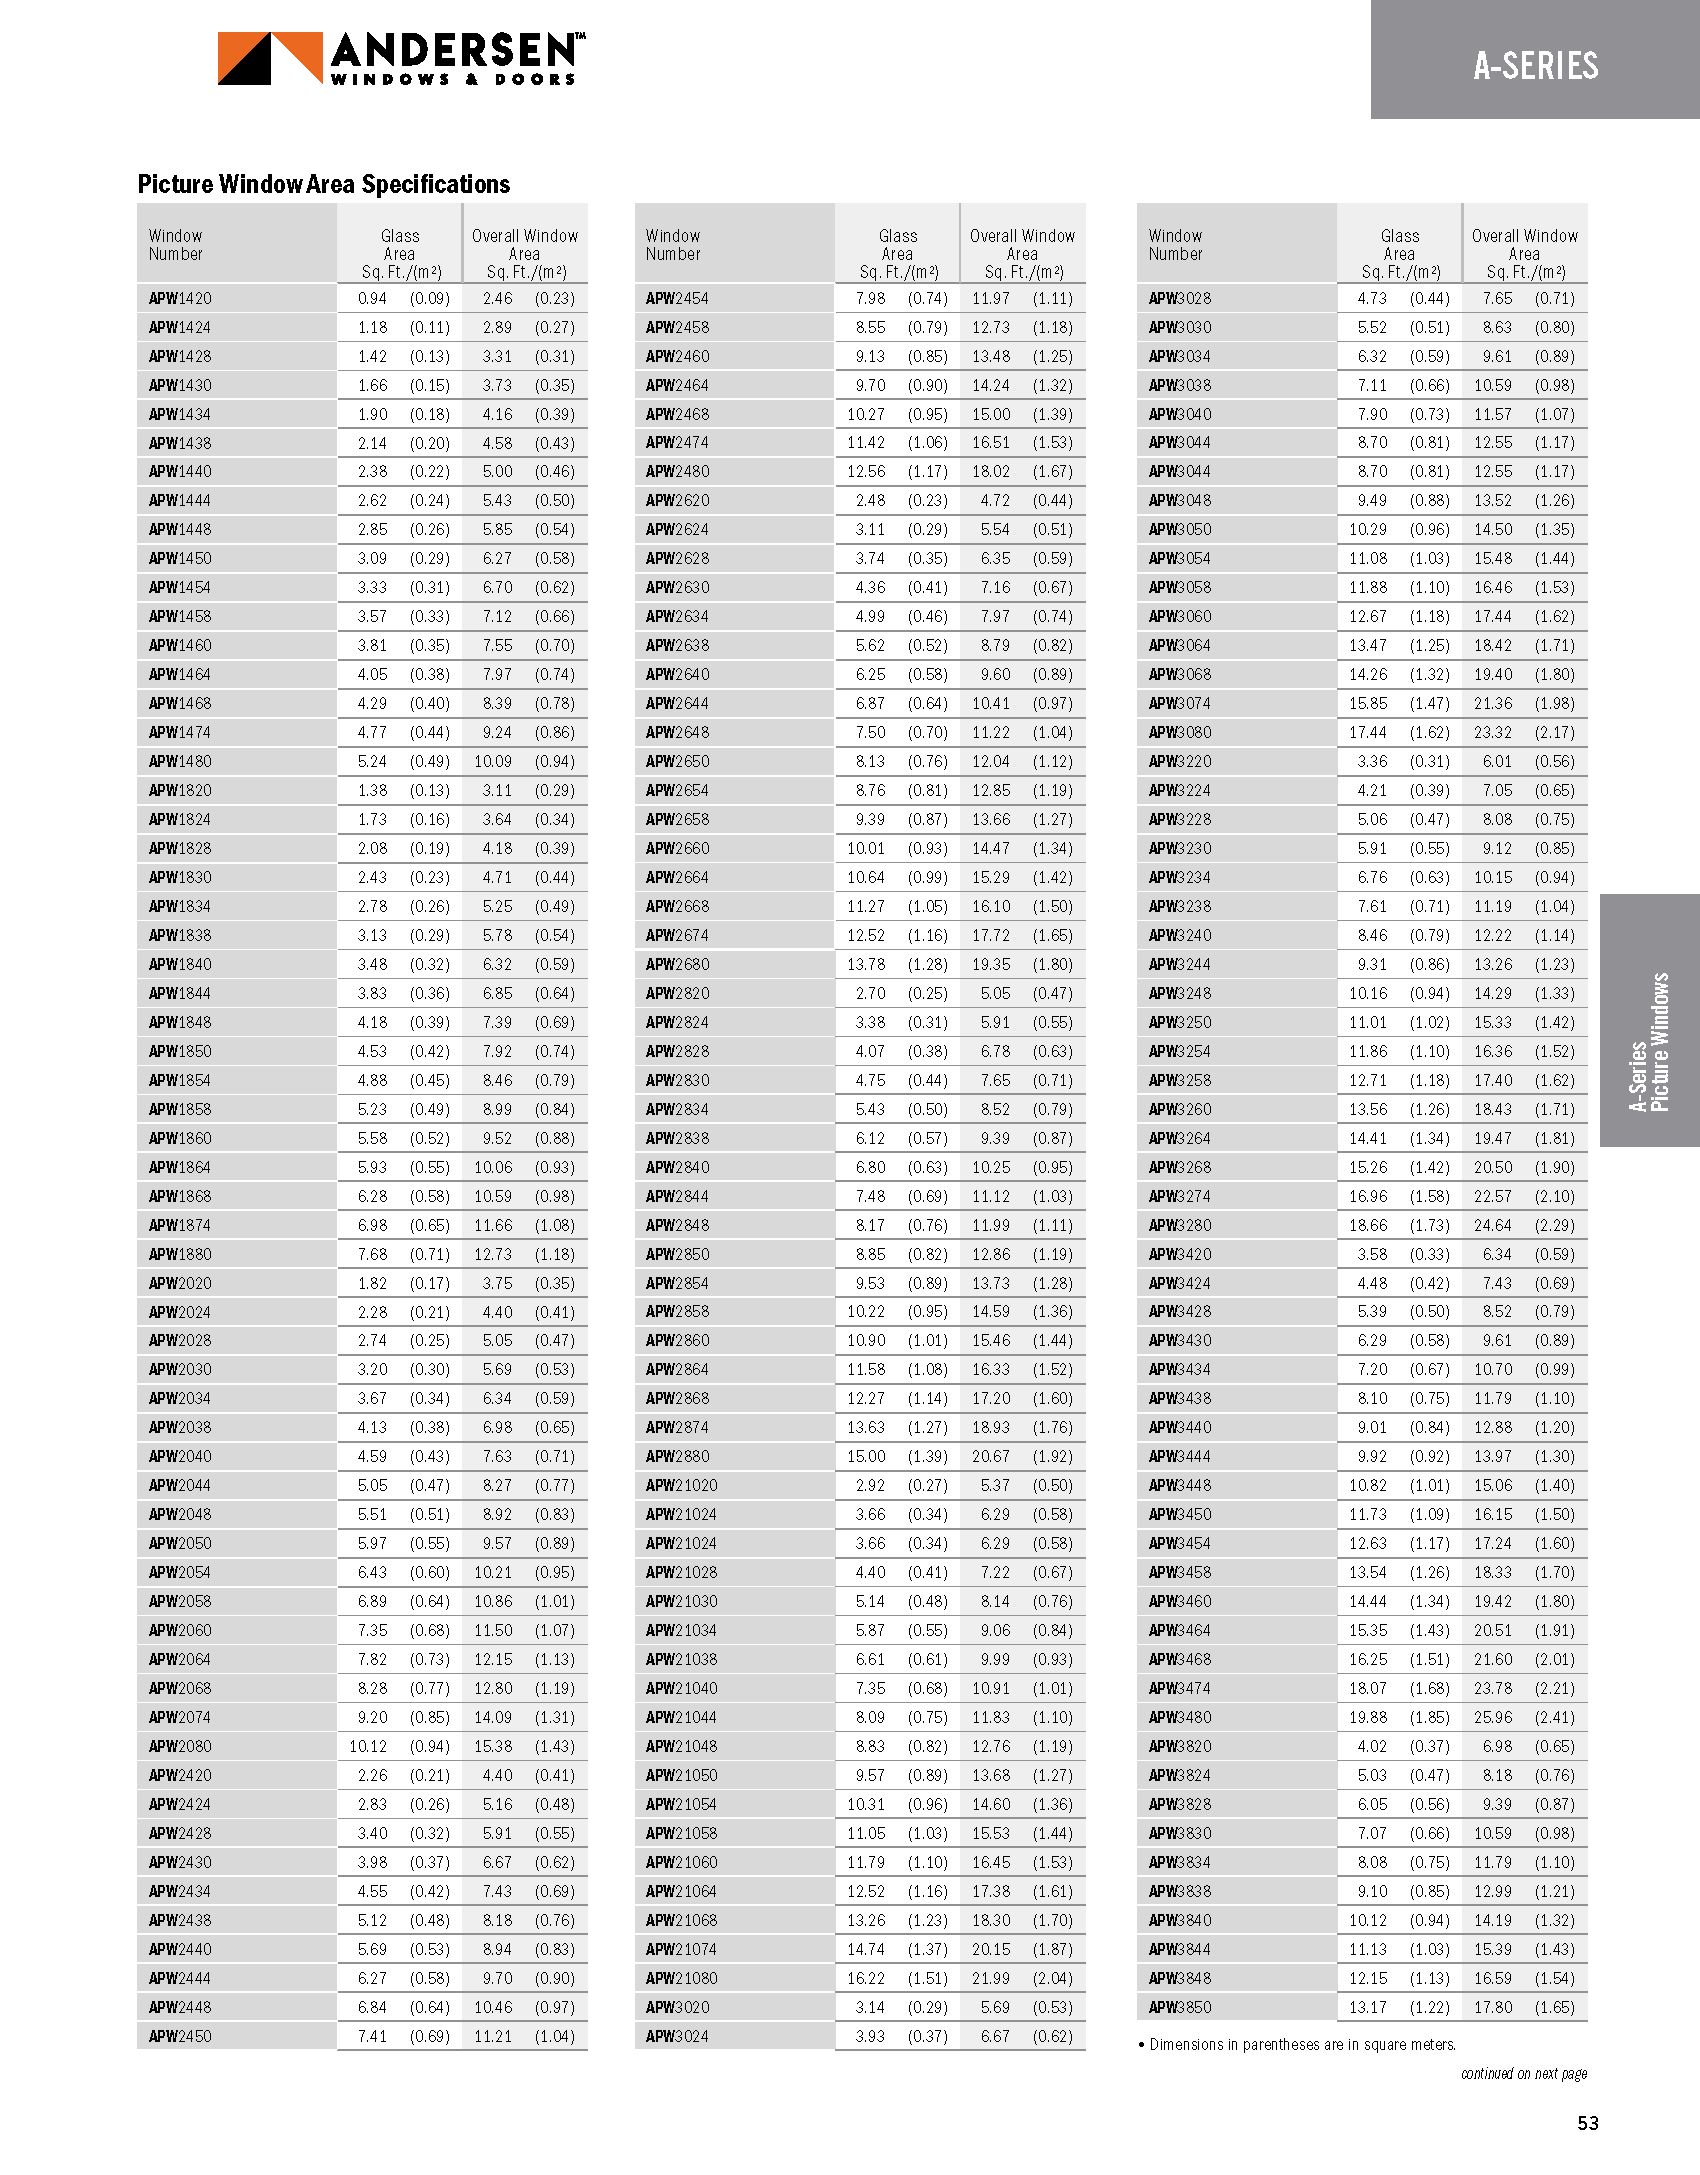tabledetected: (139, 201, 590, 2050), (637, 201, 1086, 2050), (1133, 201, 1589, 2013)
